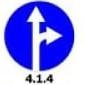road_sign: (3, 0, 75, 72)
